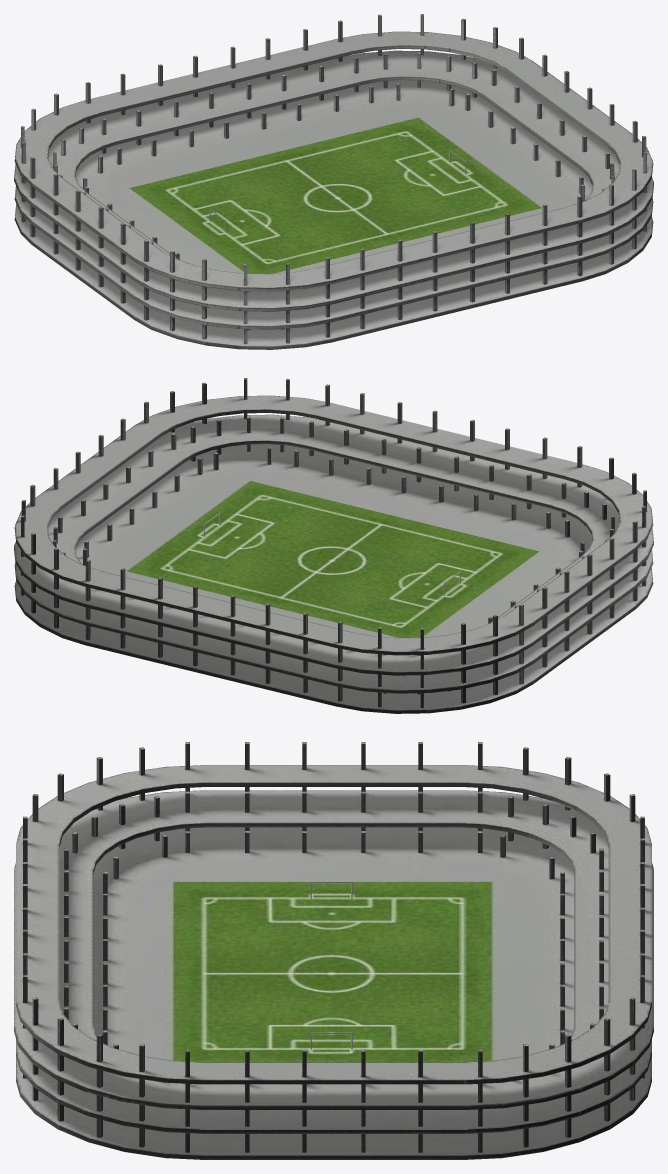
File: stadion_floor.fbx
3 renders of one model, top to bottom at view 1: azimuth 30°, elevation 25°; view 2: azimuth 150°, elevation 25°; view 3: azimuth 270°, elevation 25°, orthographic. The views are drawn at different scales.
Visible parts, largest first — view 1: Etajy; view 2: Etajy; view 3: Etajy.
Boxes of the visible parts, box(x1,y1,x2,y2) form: Etajy: box(14, 14, 653, 349); Etajy: box(14, 378, 653, 713); Etajy: box(14, 742, 653, 1159).
Size of the model in its own units: 2385 by 372 by 2046.
